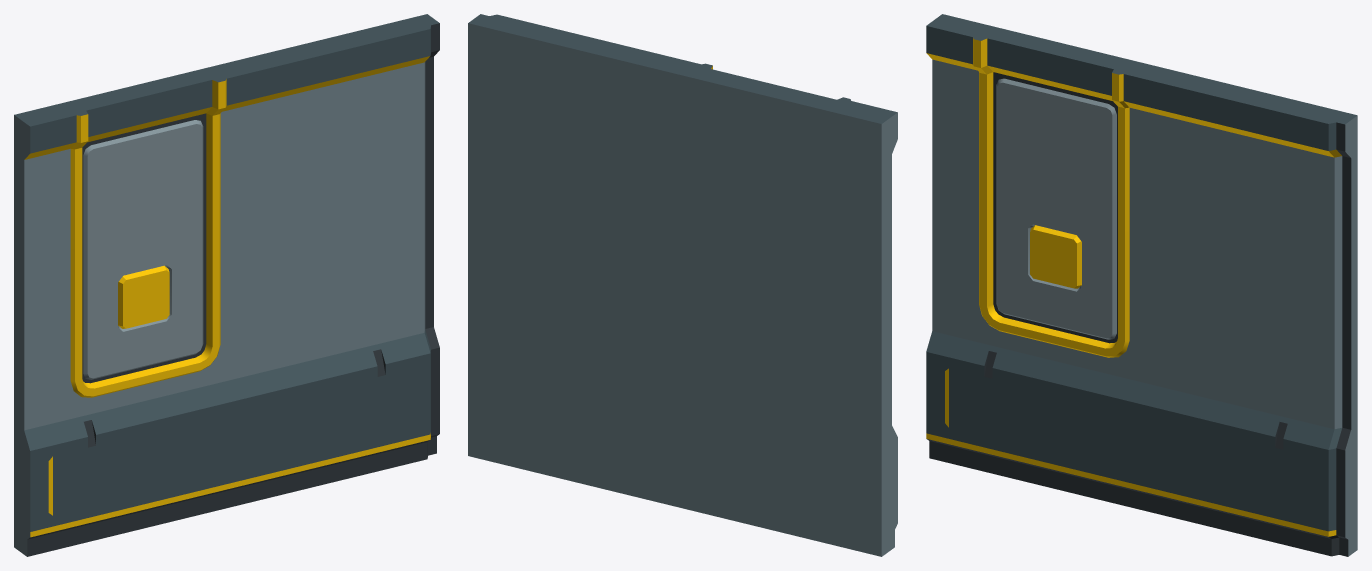
File: Wall_type_C_018.fbx
3 views of the same model, side by side, from view 1: azimuth 30°, elevation 25°; view 2: azimuth 150°, elevation 25°; view 3: azimuth 330°, elevation 25° (orthographic).
Parts seen in each view (by area): view 1: Wall_type_C_018; view 2: Wall_type_C_018; view 3: Wall_type_C_018.
Part boxes in pixels (left/top/right/bottom): Wall_type_C_018: left=14, top=14, right=439, bottom=556; Wall_type_C_018: left=468, top=14, right=897, bottom=556; Wall_type_C_018: left=926, top=14, right=1357, bottom=556.
Size of the model in its own units: 400 by 29.98 by 400.
